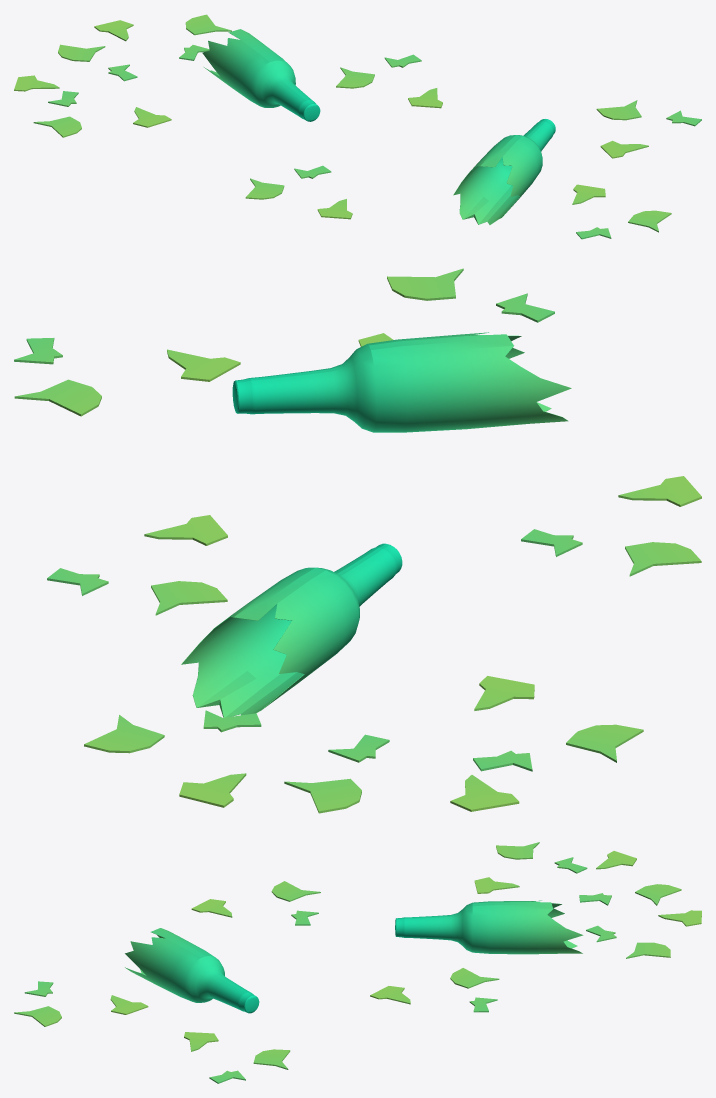
Rendered from Vidrio.fbx.
3 renders of one model, top to bottom at view 1: azimuth 30°, elevation 25°; view 2: azimuth 150°, elevation 25°; view 3: azimuth 270°, elevation 25°, orthographic. The views are drawn at different scales.
Visible parts, largest first — view 1: Vidrios; view 2: Vidrios; view 3: Vidrios.
Boxes of the visible parts, box(x1,y1,x2,y2) form: Vidrios: box(14, 14, 701, 239); Vidrios: box(14, 268, 701, 813); Vidrios: box(14, 842, 701, 1083).
Size of the model in its own units: 90.97 by 8.52 by 110.
